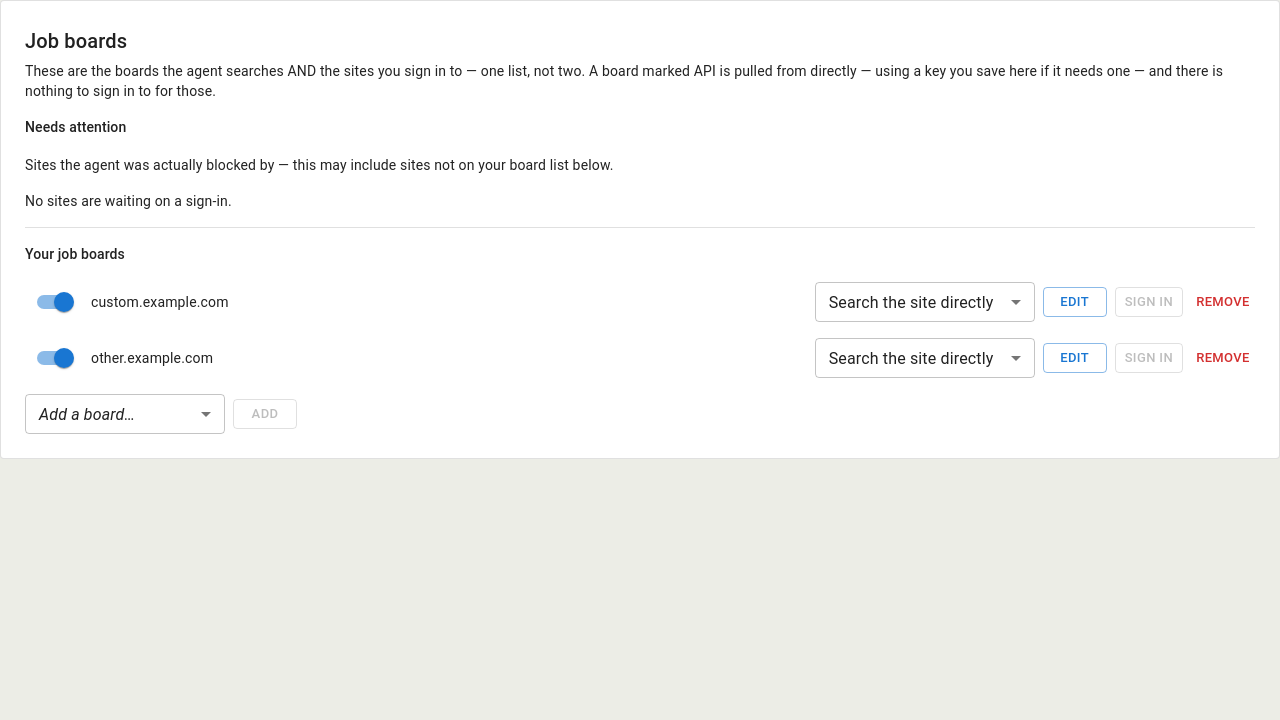
Test: JobBoardsPage › refuses a source rename that collides with another board, without saving
Expected: the heading "Job boards" is shown, [25,29,127,53]
Click the button "Edit" in the row of "custom.example.com" at (1075, 302), box [1043,287,1107,317]
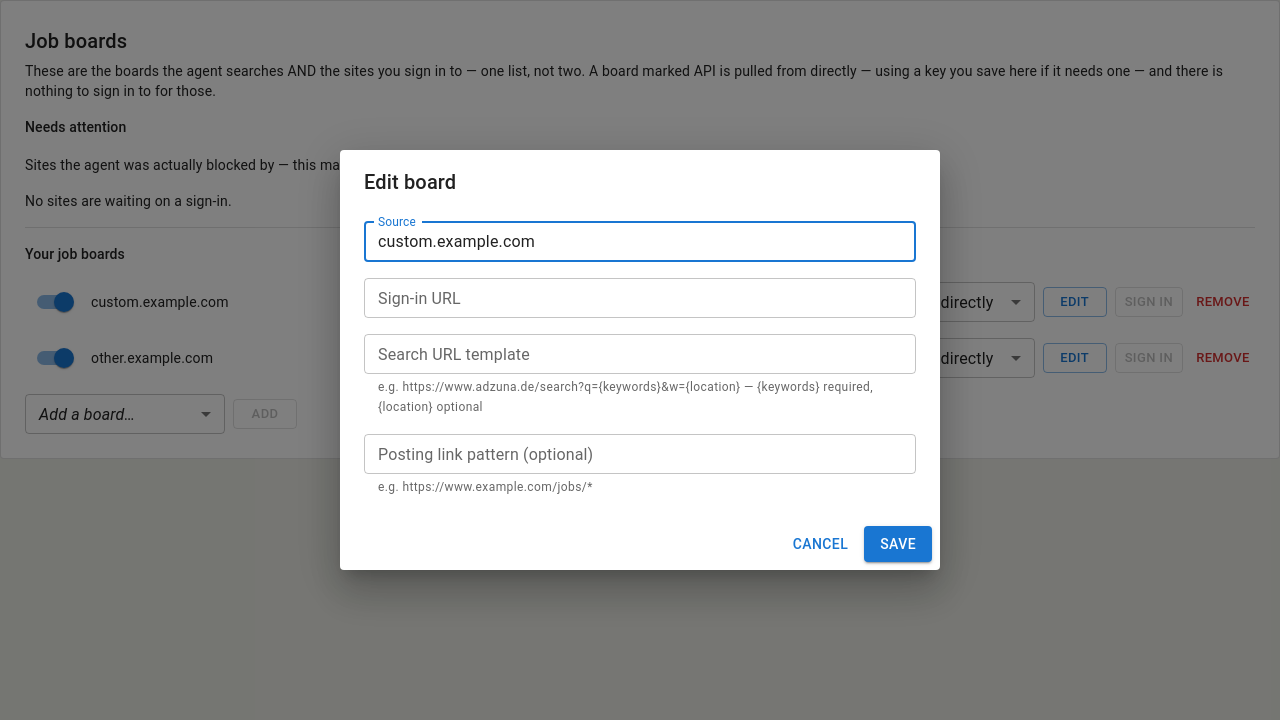
Replace the text in the field labelled "Source" with "  Other.Example.com  " at (640, 242), box [364,222,916,262]
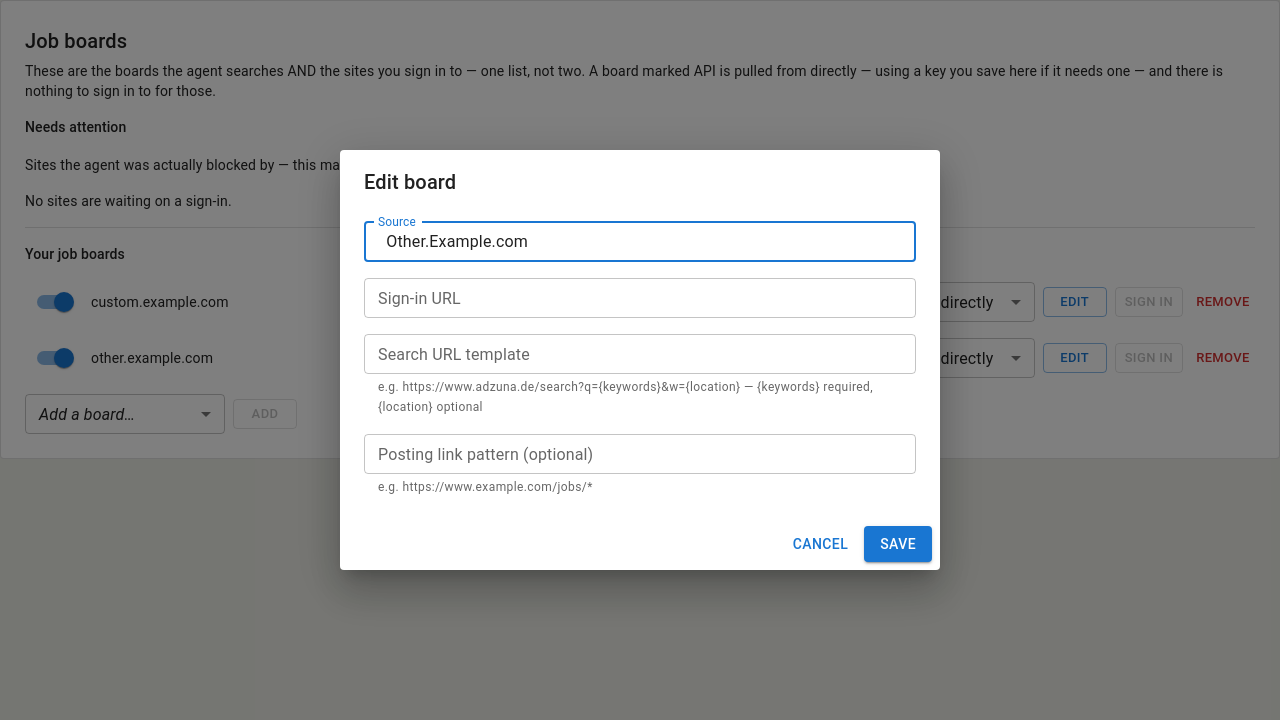
Click the button "Save" at (898, 544), box [864,526,932,562]
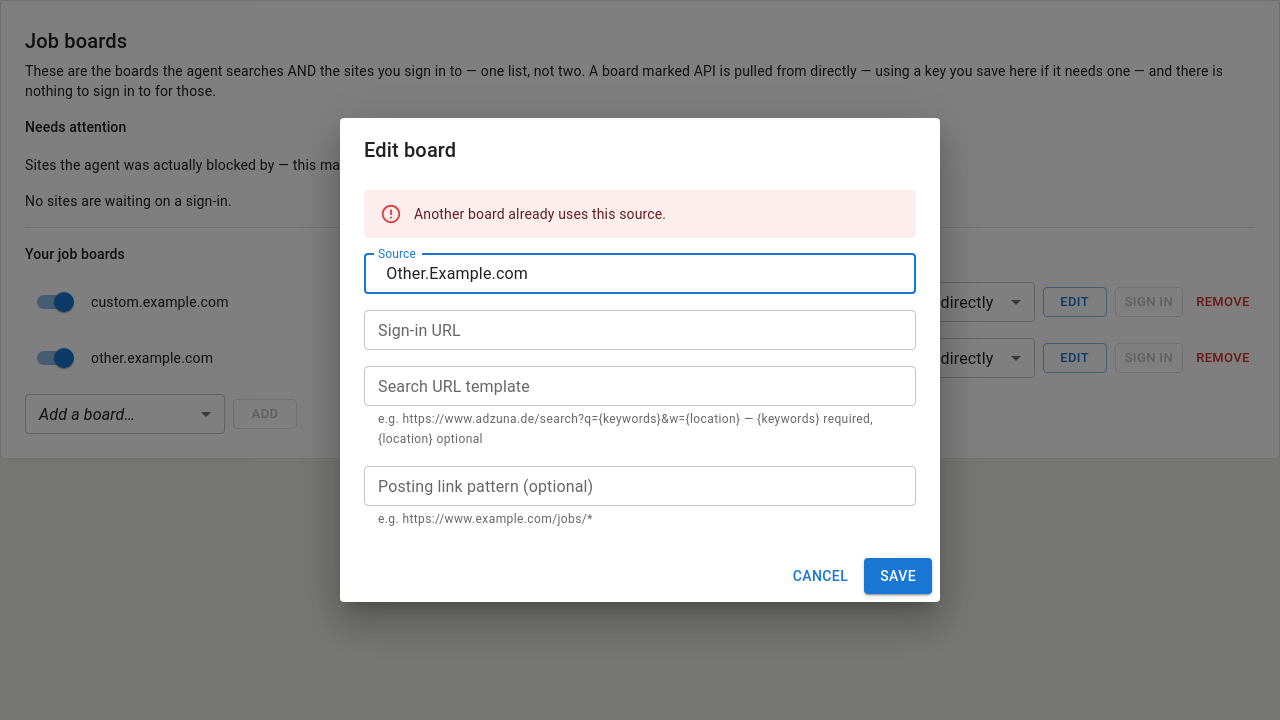
Expected: the text "Another board already uses this source." is shown, [414,206,666,222]
